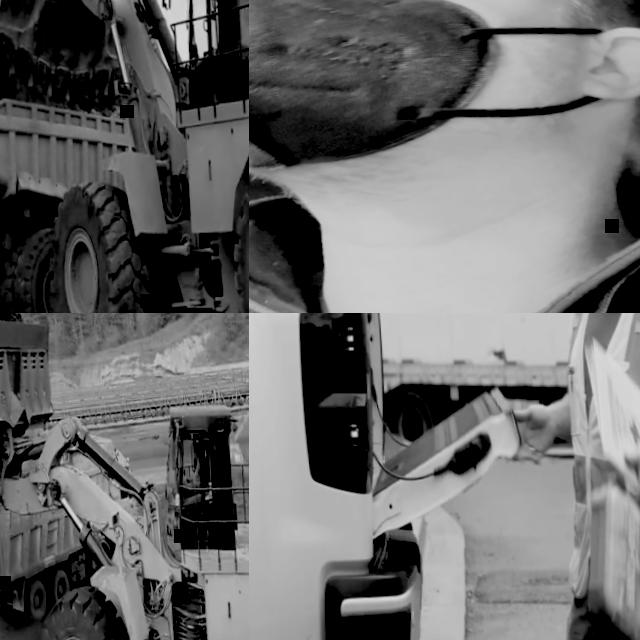Mask: (249, 0, 640, 182)
NO-Hardhat: (191, 441, 198, 450)
NO-Mask: (190, 453, 196, 460)
NO-Safety Vest: (249, 240, 640, 313), (193, 457, 204, 483)
Person: (249, 0, 640, 313), (495, 313, 640, 640), (177, 440, 205, 496)
Safety Vest: (545, 313, 640, 607)
vehicle: (249, 313, 535, 640), (0, 313, 249, 640), (0, 0, 249, 313), (0, 81, 152, 313), (0, 423, 138, 629)
